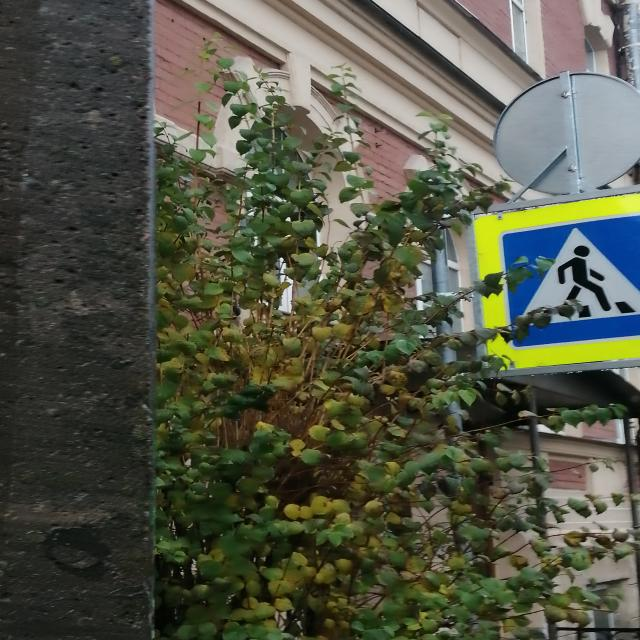road sign: (467, 190, 638, 374)
